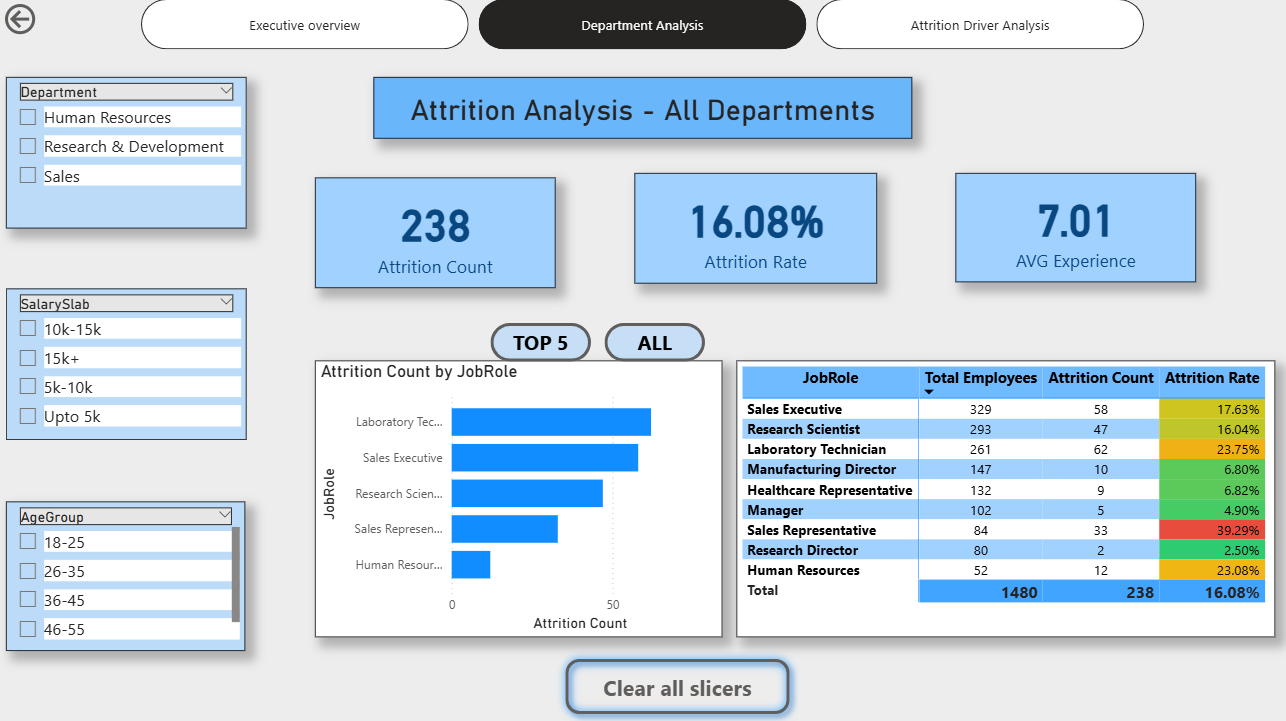

This screenshot's page, from the dashboard's own definition file:
{"tool":"powerbi","page":{"name":"Department Analysis","canvas":[1280,720],"ordinal":1},"visuals":[{"type":"card","fields":{"Values":["Dim_Education.Attrition Count"]},"box":[314.1,178.1,239.6,110.1],"z":0},{"type":"card","fields":{"Values":["Dim_Education.Attrition Rate"]},"box":[631.5,173.3,241.3,110.1],"z":1000},{"type":"card","fields":{"Values":["Dim_Education.AVG Experience"]},"box":[950.5,173.3,239.6,108.5],"z":2000},{"type":"barChart","fields":{"Category":["Dim_Job.JobRole"],"Y":["Dim_Education.Attrition Count"]},"box":[313.3,360,405,275],"z":3000},{"type":"pivotTable","fields":{"Rows":["Dim_Job.JobRole"],"Values":["Dim_Education.Total Employees","Dim_Education.Attrition Count","Dim_Education.Attrition Rate"]},"box":[732.4,359.6,536.1,275.5],"z":4000},{"type":"card","fields":{"Values":["Dim_Education.Dynamic Title"]},"box":[372,77.7,536,61.5],"z":5000},{"type":"actionButton","box":[0,0,100,40],"z":9000},{"type":"slicer","fields":{"Values":["Dim_Job.Department"]},"box":[6.1,77.2,239.6,150.6],"z":11000},{"type":"slicer","fields":{"Values":["Dim_Salary.SalarySlab"]},"box":[6.1,288.8,239.6,150.6],"z":12000},{"type":"slicer","fields":{"Values":["Dim_Employee.AgeGroup"]},"box":[6.1,500.3,238,149],"z":13000},{"type":"actionButton","box":[554.2,648.2,240.8,72.6],"z":14000},{"type":"pageNavigator","box":[139.7,0,1000.7,50.2],"z":15000},{"type":"actionButton","box":[601.7,321.7,100,38.3],"z":16000},{"type":"actionButton","box":[488.3,321.7,100,38.3],"z":17000}]}

Visuals, with their boxes in screenshot pixels (x1, y1, x2, y2), scaled from the page's 1280x720 canvas onto the 1286x721 screenshot:
card - Dim_Education.Attrition Count: (left=316, top=178, right=556, bottom=289)
card - Dim_Education.Attrition Rate: (left=634, top=174, right=877, bottom=284)
card - Dim_Education.AVG Experience: (left=955, top=174, right=1196, bottom=282)
barChart - Dim_Job.JobRole x Dim_Education.Attrition Count: (left=315, top=360, right=722, bottom=636)
pivotTable - Dim_Job.JobRole x Dim_Education.Total Employees: (left=736, top=360, right=1274, bottom=636)
card - Dim_Education.Dynamic Title: (left=374, top=78, right=912, bottom=139)
actionButton: (left=0, top=0, right=100, bottom=40)
slicer - Dim_Job.Department: (left=6, top=77, right=247, bottom=228)
slicer - Dim_Salary.SalarySlab: (left=6, top=289, right=247, bottom=440)
slicer - Dim_Employee.AgeGroup: (left=6, top=501, right=245, bottom=650)
actionButton: (left=557, top=649, right=799, bottom=720)
pageNavigator: (left=140, top=0, right=1146, bottom=50)
actionButton: (left=605, top=322, right=705, bottom=360)
actionButton: (left=491, top=322, right=591, bottom=360)
